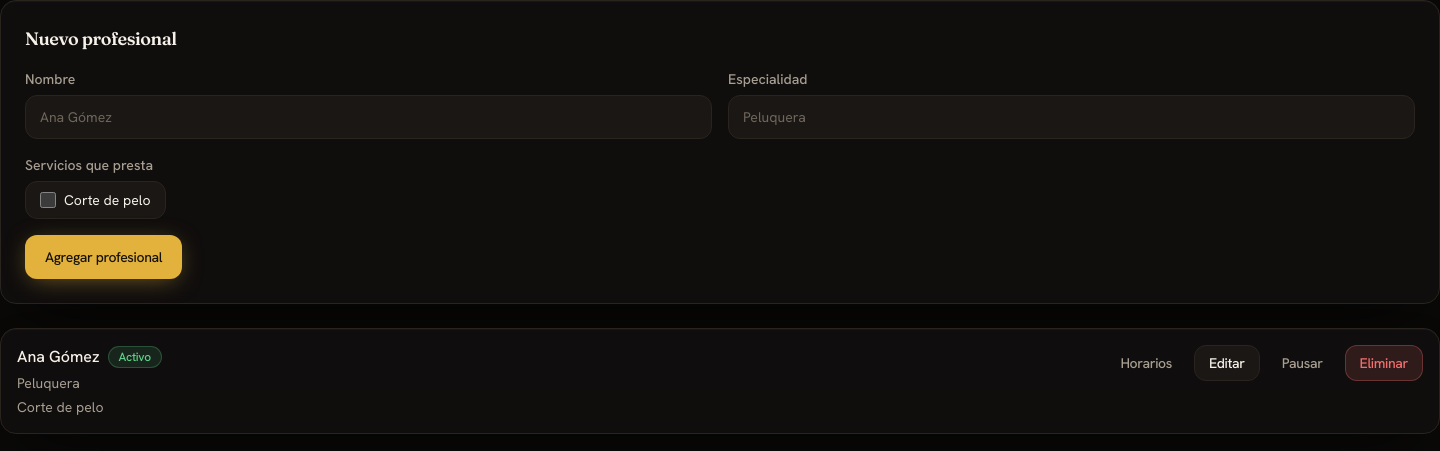
Scenario: StaffManager › goes back to the create form when the edit is cancelled
Click the button "Editar" at (1227, 363), box [1194,345,1260,381]
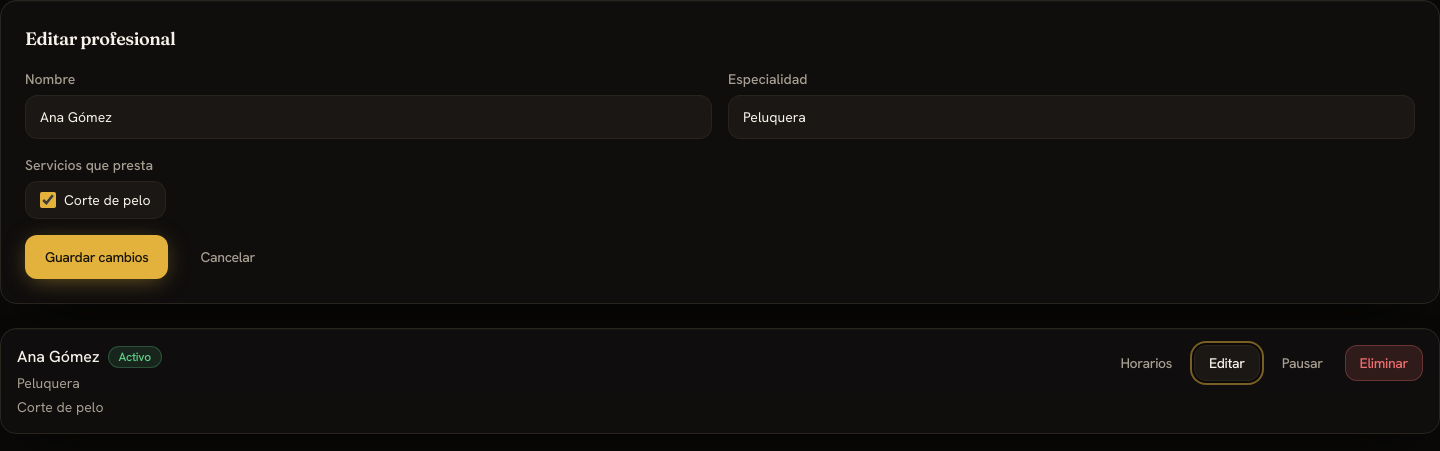
Click the button "Cancelar" at (228, 257), box [180,235,275,279]
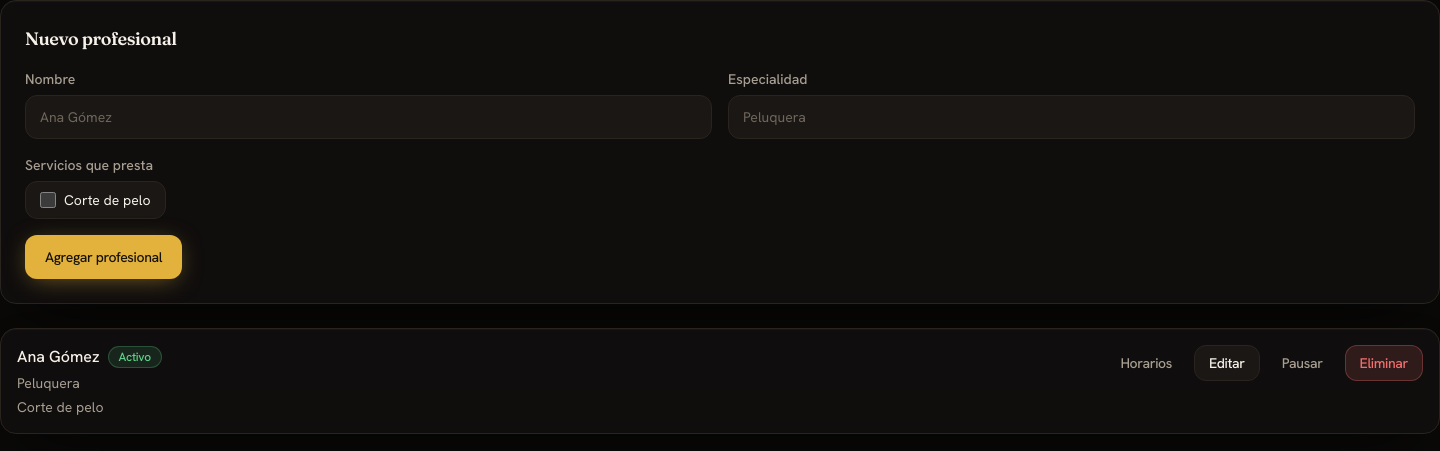
Result: the heading "Nuevo profesional" is shown at [25,27,177,50]
Result: the field labelled "Nombre" is empty at [25,95,712,139]
Result: the checkbox labelled "Corte de pelo" is not checked at [40,192,56,208]
